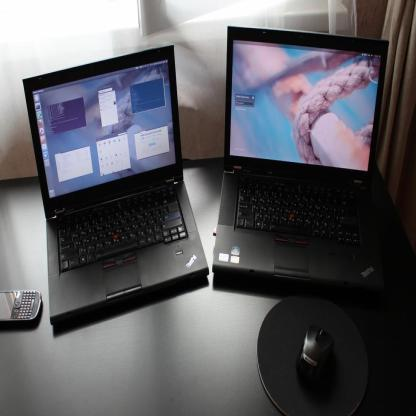board: (26, 42, 209, 326), (212, 28, 388, 293)
